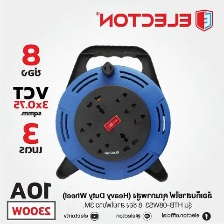three_eye_plug: (52, 58, 174, 182)
